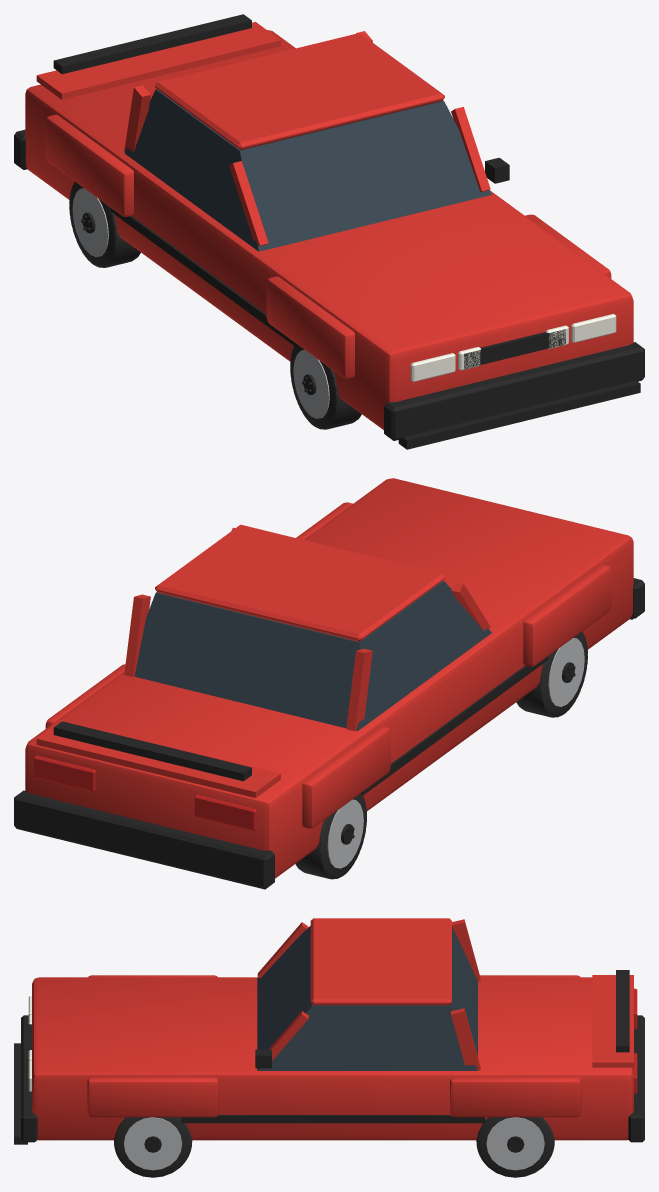
File: vehicle_sedan.glb
3 views of the same model, one above another, from view 1: azimuth 30°, elevation 25°; view 2: azimuth 150°, elevation 25°; view 3: azimuth 270°, elevation 25° (orthographic). The views are drawn at different scales.
Parts seen in each view (by area): view 1: Sedan, Wheel_FR, Wheel_RR; view 2: Sedan, Wheel_RR, Wheel_FR; view 3: Sedan, Wheel_RL, Wheel_FL.
Part boxes in pixels (x1,y1,x2,y2): Sedan: (14, 14, 644, 449); Wheel_FR: (290, 344, 361, 429); Wheel_RR: (69, 182, 140, 267); Sedan: (14, 478, 644, 889); Wheel_RR: (295, 793, 366, 879); Wheel_FR: (516, 631, 587, 717); Sedan: (14, 918, 644, 1144); Wheel_RL: (476, 1117, 554, 1177); Wheel_FL: (114, 1117, 192, 1177).
Size of what is drawn, in the model's own units: 1.84 by 1.35 by 4.56.
